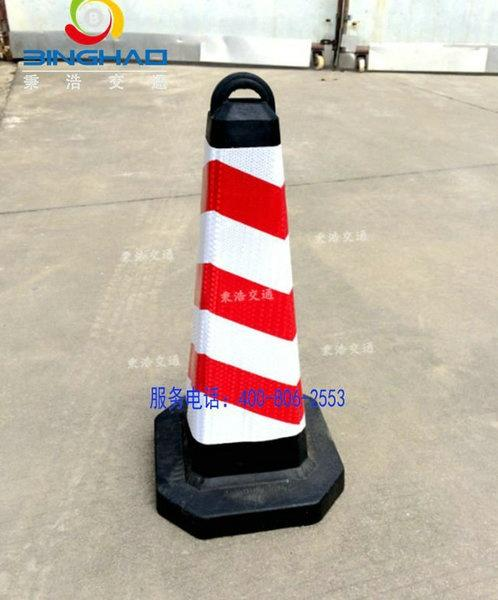cone_barrel: (152, 64, 339, 509)
